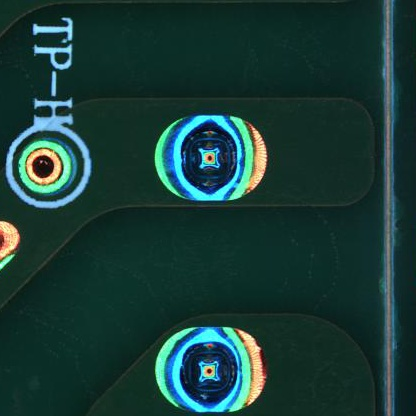spot: (145, 107, 280, 203), (148, 317, 274, 414), (16, 138, 82, 204)
